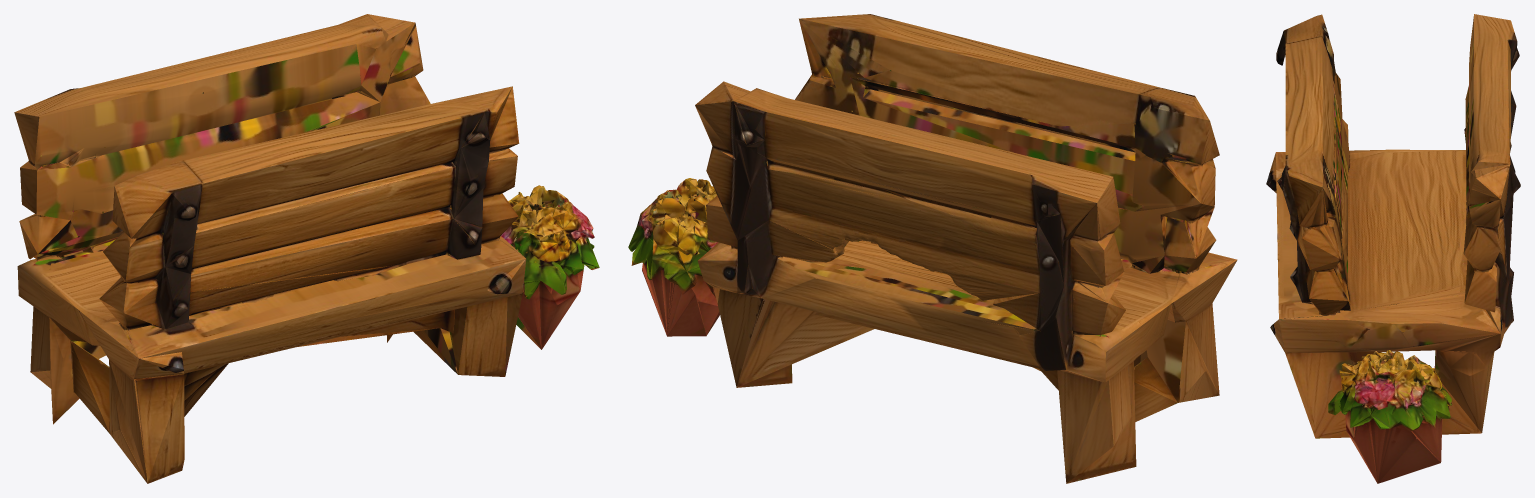
File: ck_bench.glb
3 renders of one model, left to right at view 1: azimuth 30°, elevation 25°; view 2: azimuth 150°, elevation 25°; view 3: azimuth 270°, elevation 25°, orthographic. The views are drawn at different scales.
Parts seen in each view (by area): view 1: ck_bench; view 2: ck_bench; view 3: ck_bench.
Part boxes in pixels (box(x1,y1,x2,y2)): ck_bench: box(14, 14, 599, 483); ck_bench: box(628, 14, 1237, 483); ck_bench: box(1266, 14, 1520, 483).
Size of the model in its own units: 1.98 by 1.13 by 0.9418.
1 material, 1 textured.
